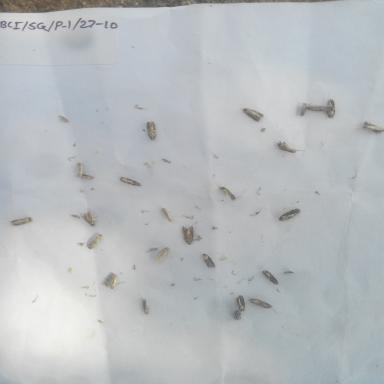pbw: (193, 248, 223, 276), (137, 117, 165, 144), (134, 294, 162, 318), (176, 224, 204, 246), (275, 206, 304, 226), (99, 268, 122, 293), (238, 106, 266, 124), (274, 139, 299, 157), (8, 214, 36, 230), (84, 233, 108, 251), (246, 296, 276, 310), (156, 244, 173, 268), (216, 184, 238, 202), (116, 175, 144, 189), (231, 292, 248, 315), (261, 268, 282, 286), (324, 96, 339, 120), (81, 212, 102, 228), (360, 121, 380, 137), (54, 112, 74, 127), (298, 101, 312, 122), (158, 207, 174, 225), (305, 104, 336, 113), (73, 161, 86, 180), (230, 308, 247, 322), (74, 174, 98, 181)
